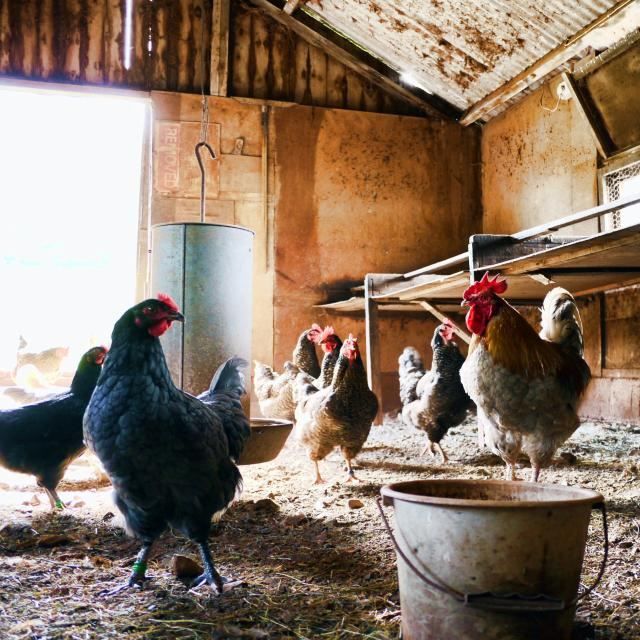chicken: (76, 299, 270, 562), (446, 268, 617, 470), (7, 326, 160, 510), (222, 306, 337, 457), (399, 296, 499, 464), (291, 330, 395, 478)
